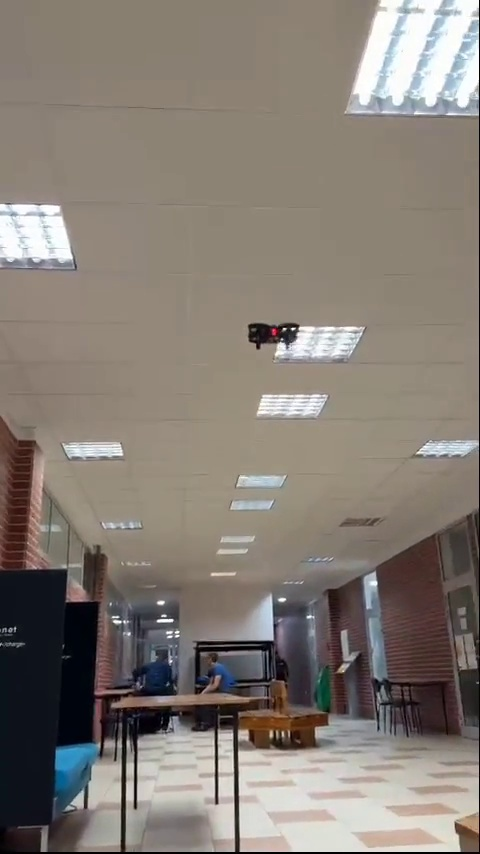drone: (249, 322, 298, 349)
no vest: (134, 647, 177, 692), (200, 647, 239, 691)
